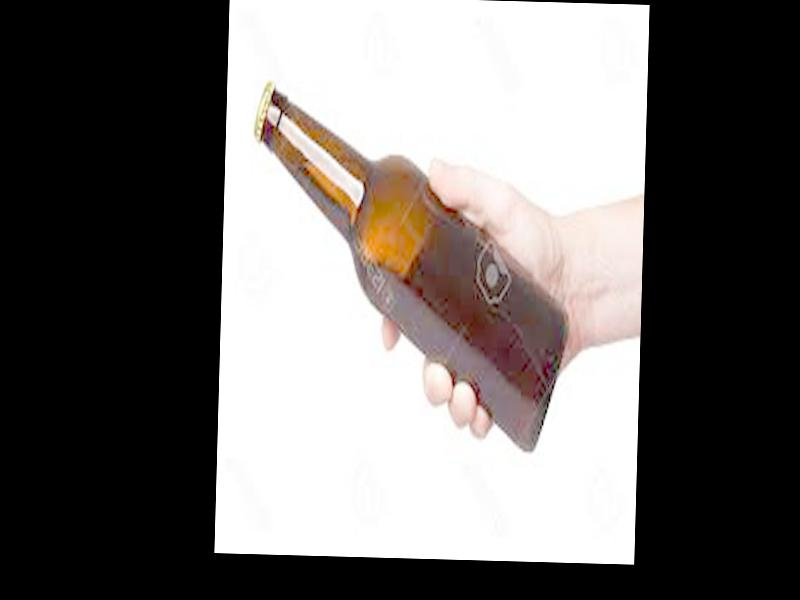Beer: (246, 79, 573, 449)
